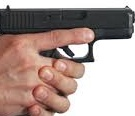pistol: (1, 1, 135, 67)
